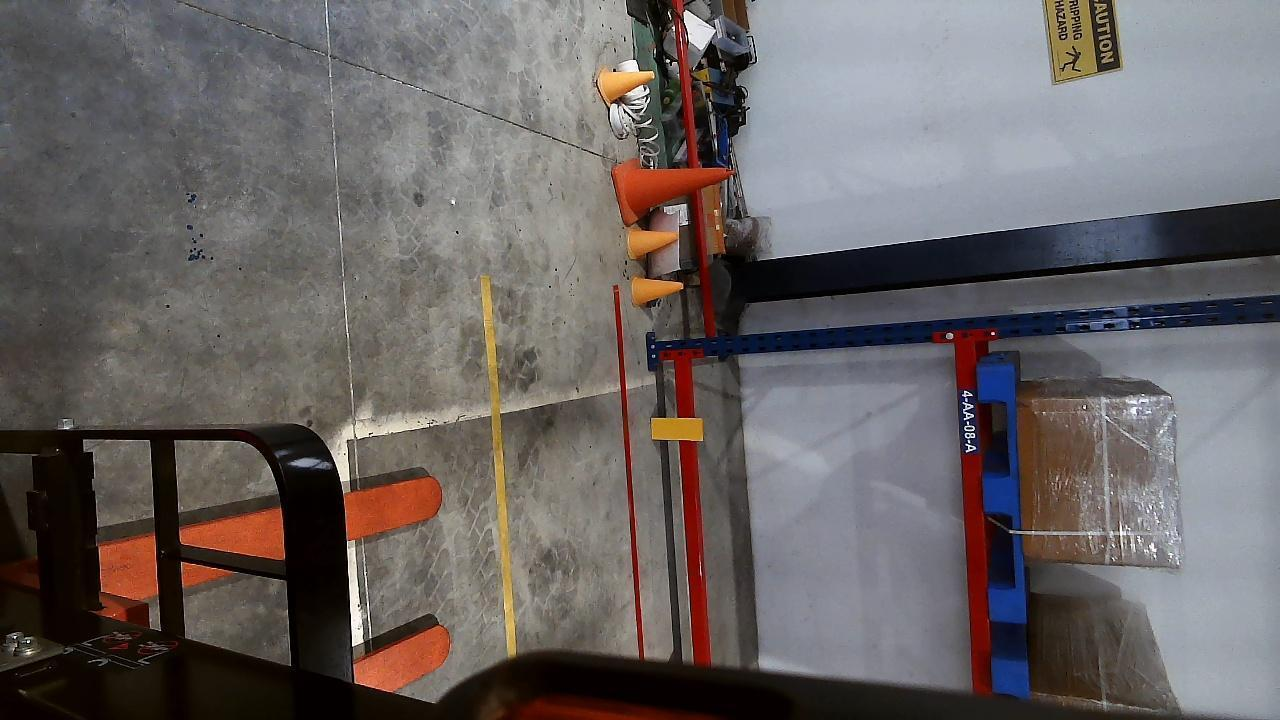red_line: (610, 282, 650, 655)
yellow_line: (480, 276, 514, 675)
